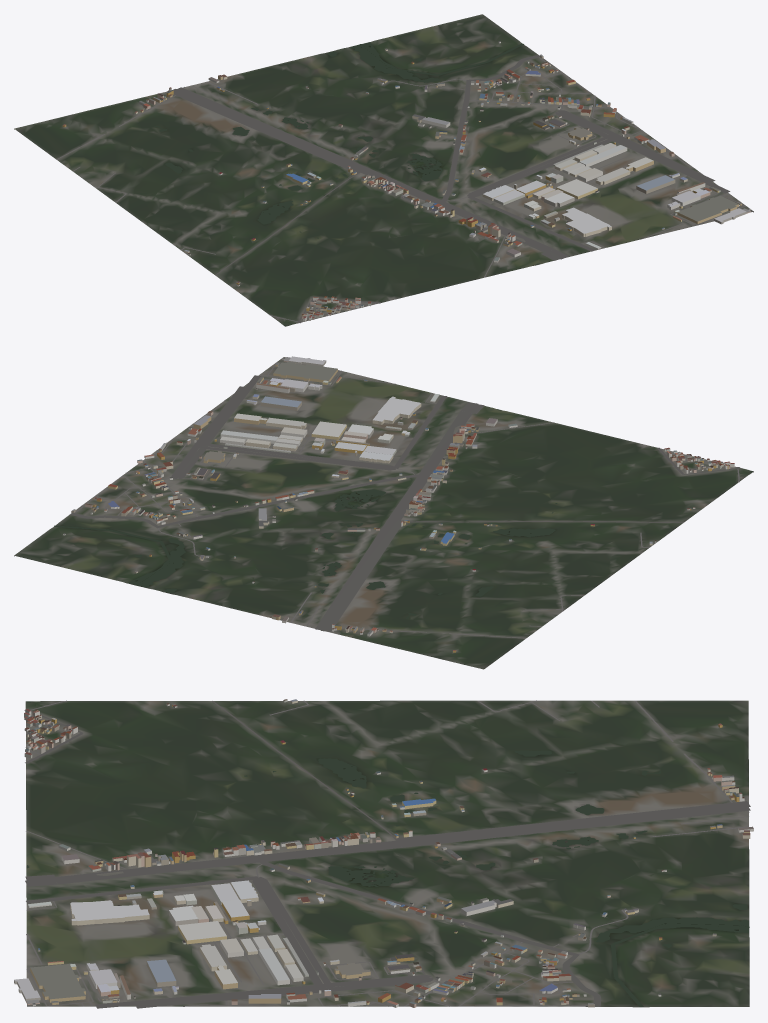
The picture shows the model from 3 angles, top to bottom: view 1: azimuth 30°, elevation 25°; view 2: azimuth 150°, elevation 25°; view 3: azimuth 270°, elevation 25°; orthographic projection. The views are drawn at different scales.
Visible parts, largest first — view 1: ground, buildings, roads, water; view 2: ground, buildings, roads, water; view 3: ground, buildings, roads, water.
Part boxes in pixels (bbox=[...]): ground: bbox=[14, 14, 753, 326]; buildings: bbox=[62, 41, 750, 321]; roads: bbox=[56, 55, 745, 323]; water: bbox=[154, 42, 540, 326]; ground: bbox=[14, 357, 753, 669]; buildings: bbox=[63, 356, 734, 652]; roads: bbox=[70, 362, 740, 638]; water: bbox=[54, 409, 752, 619]; ground: bbox=[25, 700, 749, 1007]; buildings: bbox=[14, 699, 753, 1007]; roads: bbox=[24, 700, 750, 1008]; water: bbox=[26, 701, 749, 1007].
Size of the model in its own units: 1416 by 27.92 by 1435.
